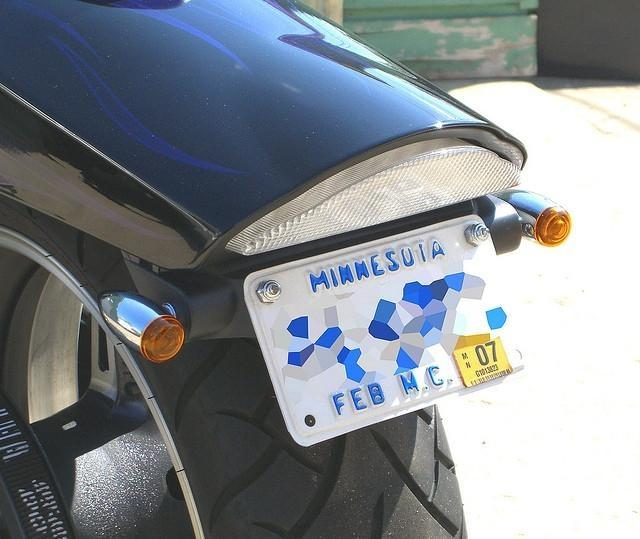motorcycle: (1, 3, 569, 532)
